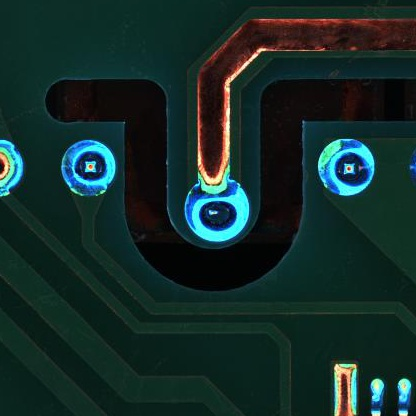spot: (185, 181, 250, 241), (58, 139, 118, 198), (316, 138, 374, 198)
